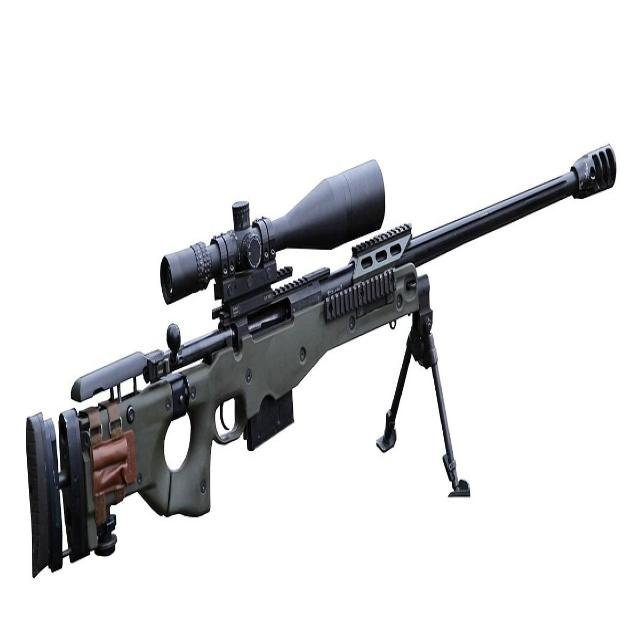Weapon: (25, 137, 619, 588)
